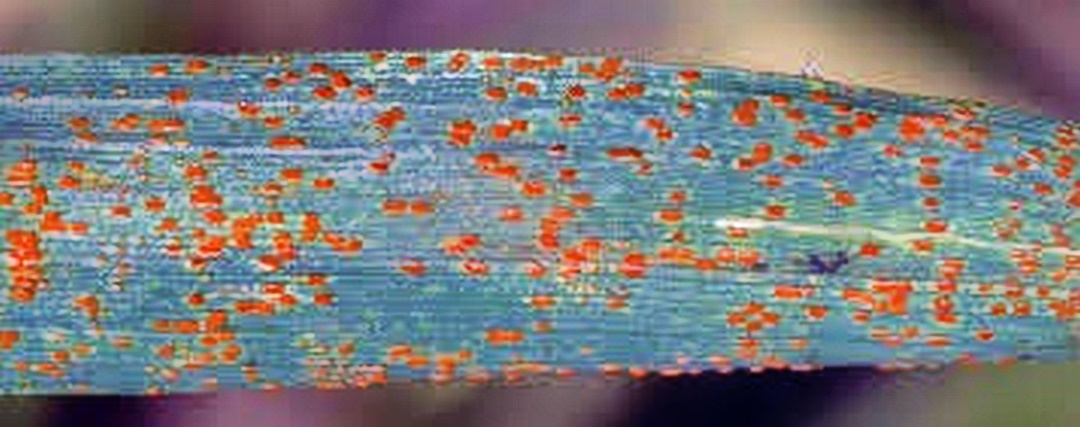Leaf Rust: (19, 50, 976, 375)
